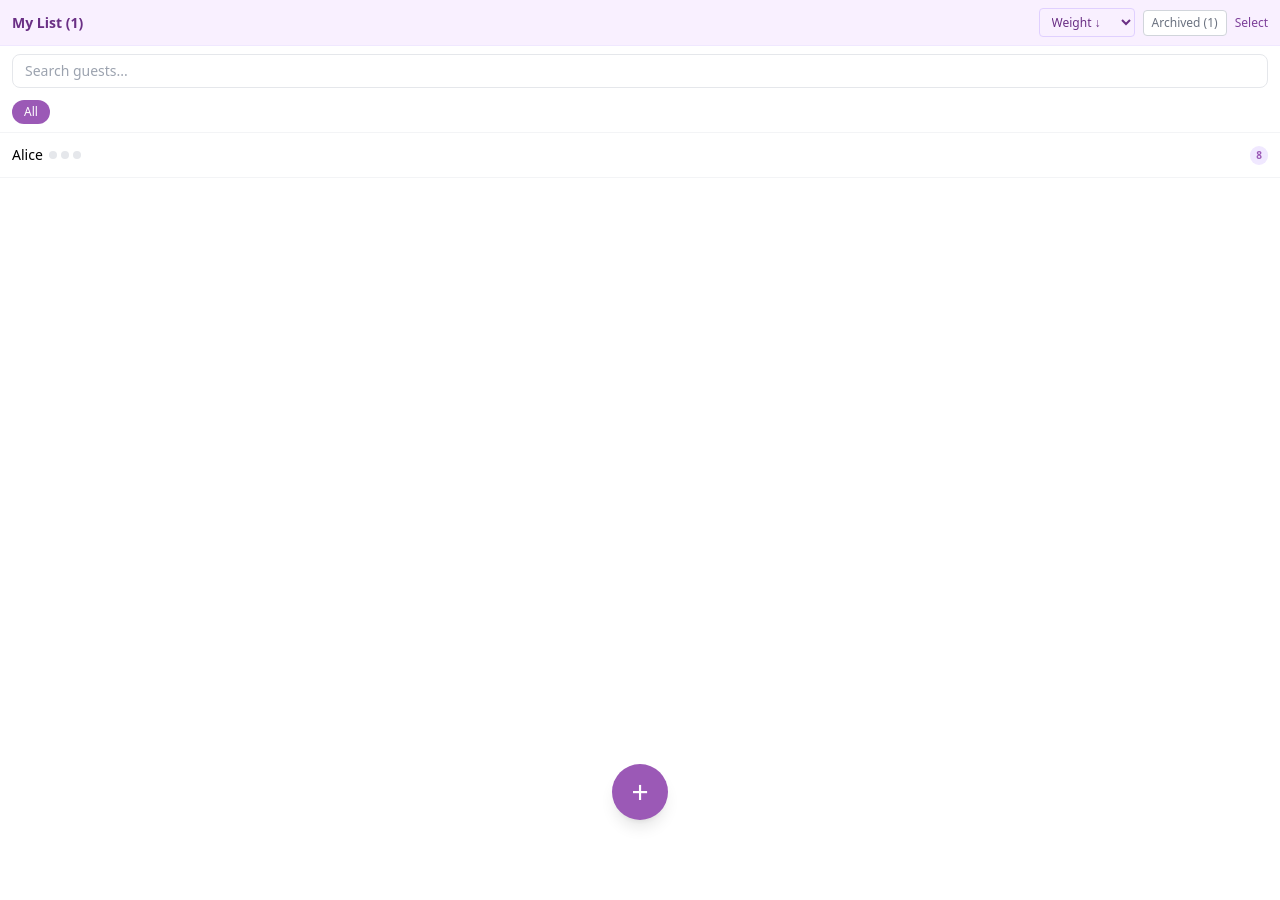
GuestList › opens archived sheet when Archived button clicked
Click the button "Archived (1)". click: click(1185, 22)
box: [1143,10,1227,36]
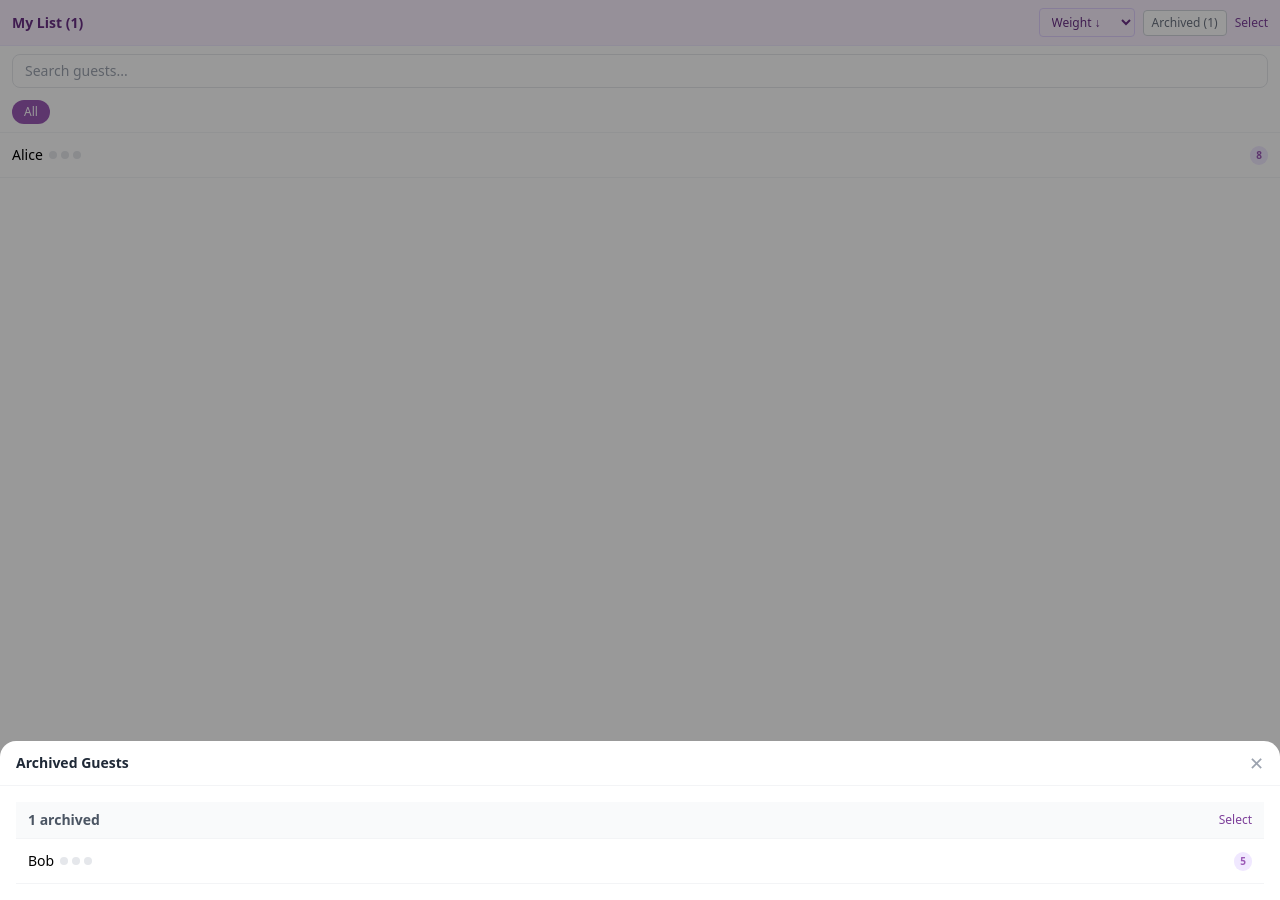
Expected: the heading "Archived Guests" is shown, [16,753,129,773]
